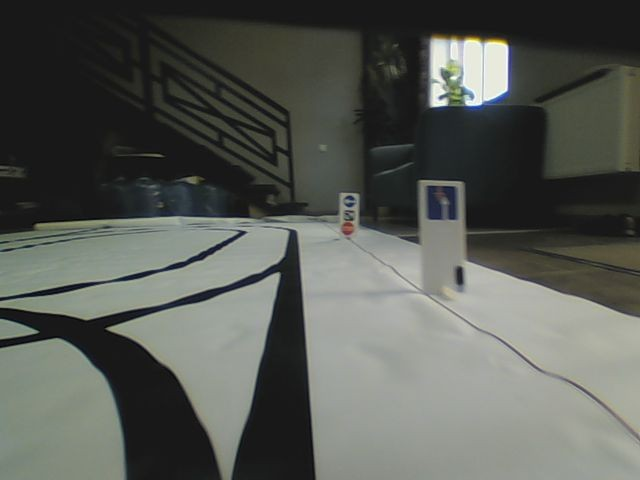Stop: (341, 223, 354, 235)
priority_movement: (425, 185, 460, 222)
